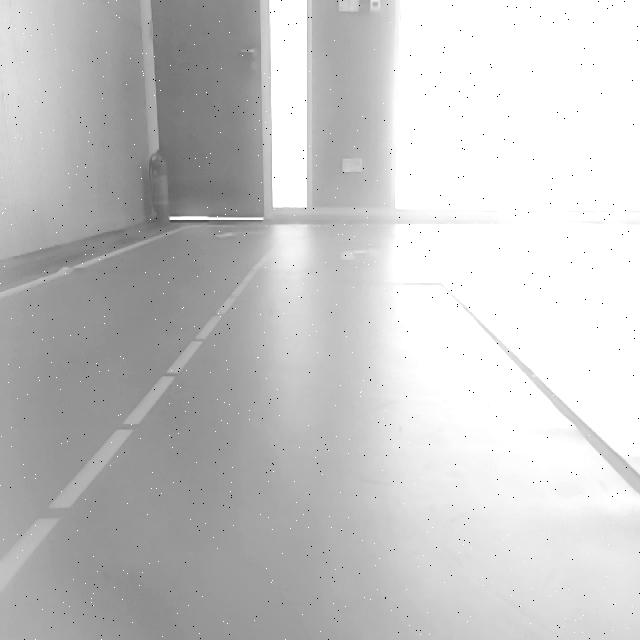left_lane: (1, 254, 275, 591)
right_lane: (447, 272, 640, 457)
